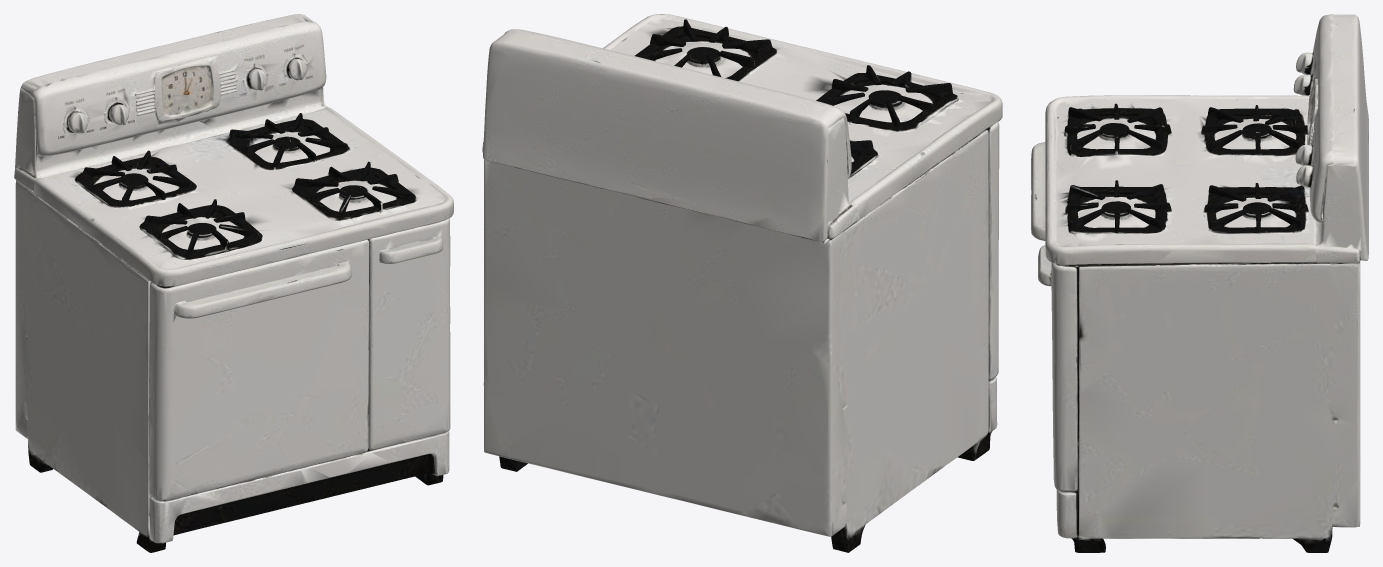
The model's file is k_stove.glb.
3 renders of one model, left to right at view 1: azimuth 30°, elevation 25°; view 2: azimuth 150°, elevation 25°; view 3: azimuth 270°, elevation 25°, orthographic. The views are drawn at different scales.
Bounding box in the file's own units: 1.59 × 1.9 × 1.47.
1 material, 1 textured.
